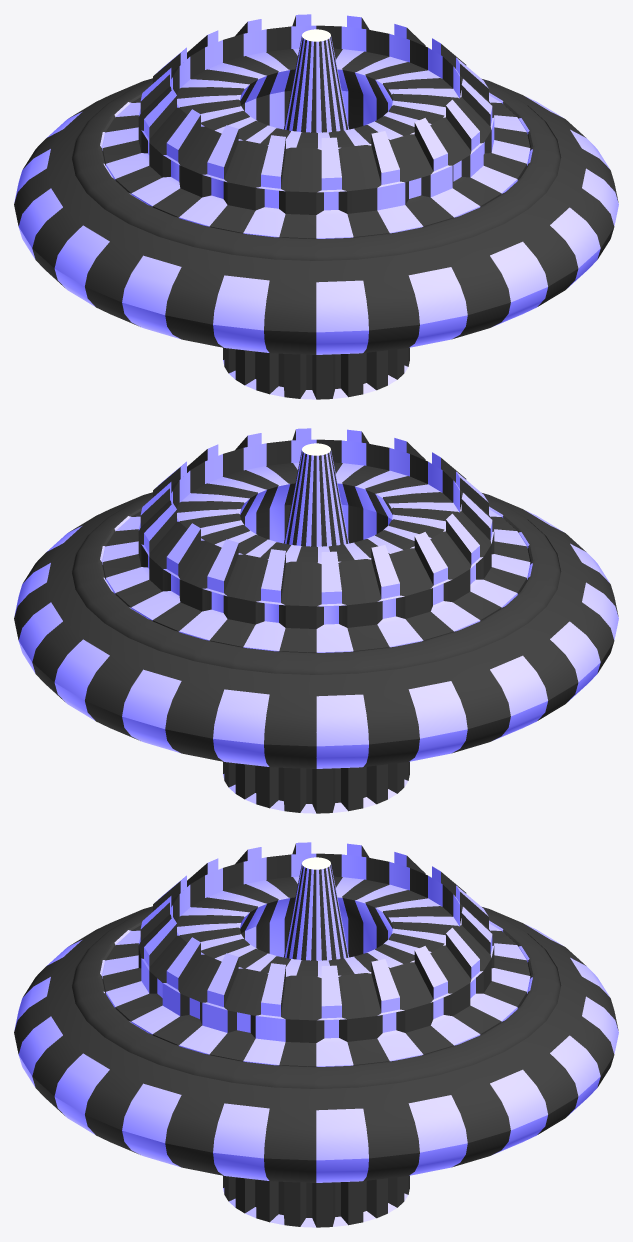
Rendered from spaceship_lowpoly.glb.
3 views of the same model, one above another, from view 1: azimuth 30°, elevation 25°; view 2: azimuth 150°, elevation 25°; view 3: azimuth 270°, elevation 25° (orthographic).
Parts seen in each view (by area): view 1: Sphere; view 2: Sphere; view 3: Sphere.
Part boxes in pixels (x1,y1,x2,y2): Sphere: (14,14,618,399); Sphere: (14,428,618,813); Sphere: (14,842,618,1227).
Bounding box in the file's own units: 11.47 × 6.86 × 11.47.
